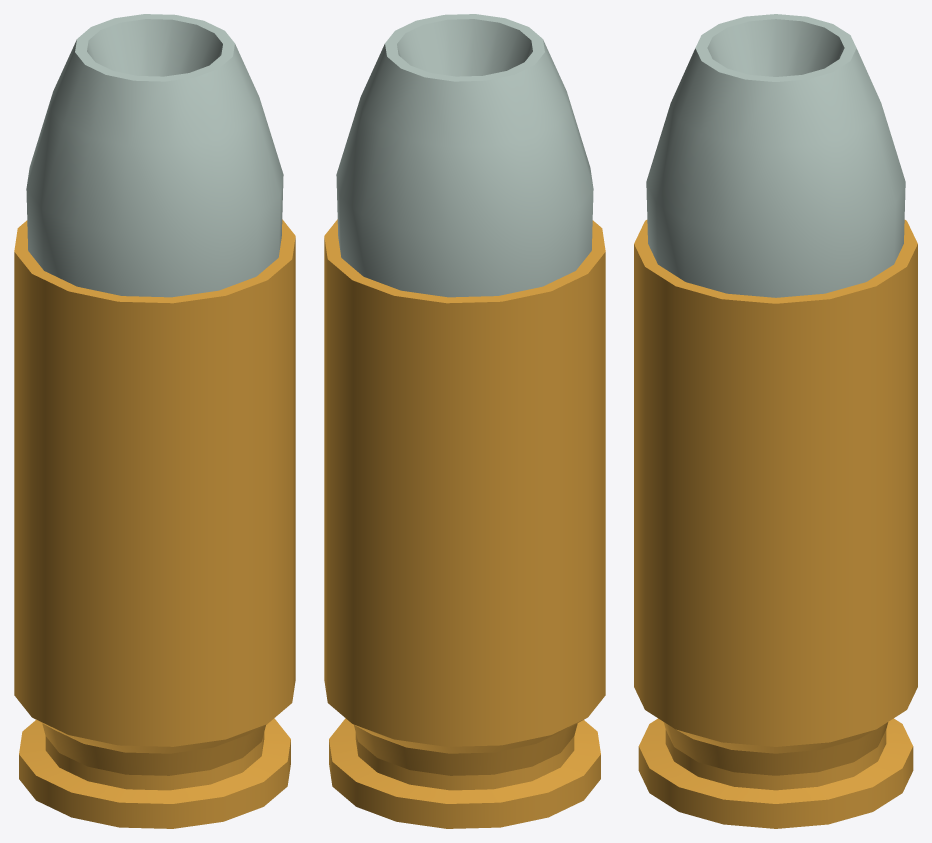
File: ammo2-food.fbx
3 renders of one model, left to right at view 1: azimuth 30°, elevation 25°; view 2: azimuth 150°, elevation 25°; view 3: azimuth 270°, elevation 25°, orthographic.
Parts seen in each view (by area): view 1: ammo2-food; view 2: ammo2-food; view 3: ammo2-food.
Part boxes in pixels (<box>): ammo2-food: <box>14,14,295,828</box>; ammo2-food: <box>324,14,605,828</box>; ammo2-food: <box>634,14,917,828</box>.
Size of the model in its own units: 0.0132 by 0.037 by 0.0132.
